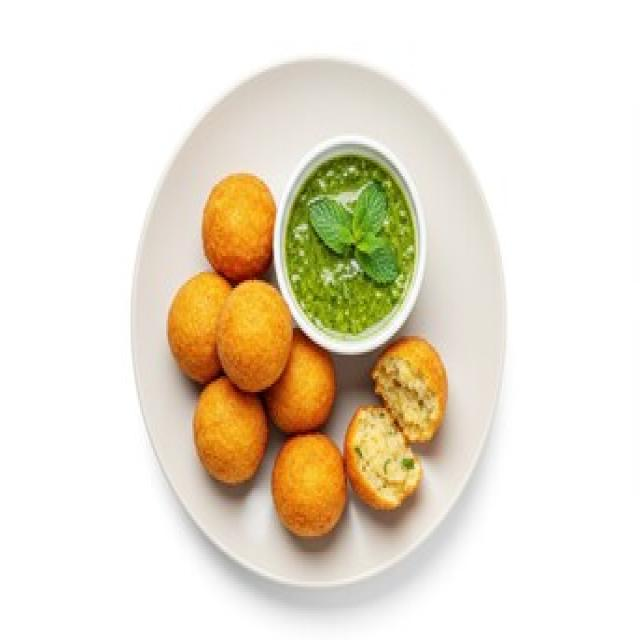BONDA: (168, 176, 349, 536), (346, 340, 445, 513)
GREEN CHUTNEY: (290, 165, 410, 326)
